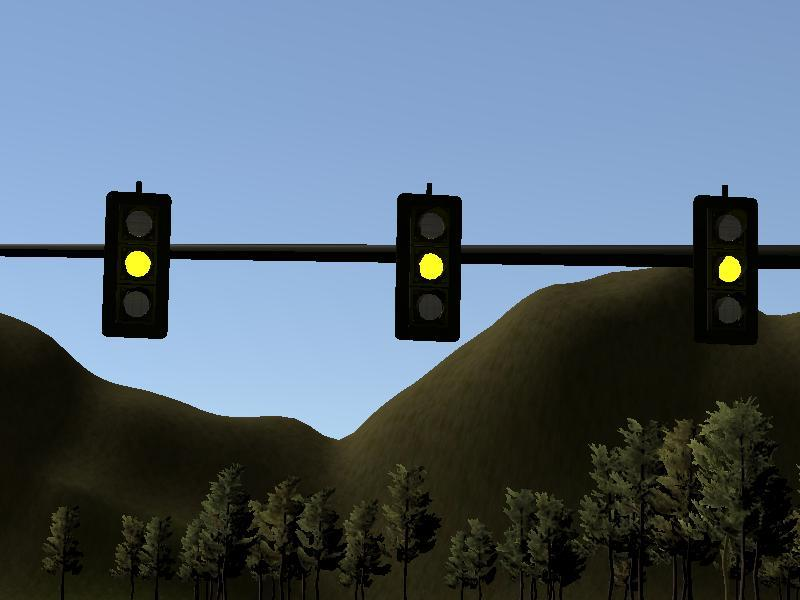Yellow: (394, 193, 461, 344), (692, 197, 758, 342), (103, 193, 168, 337)
